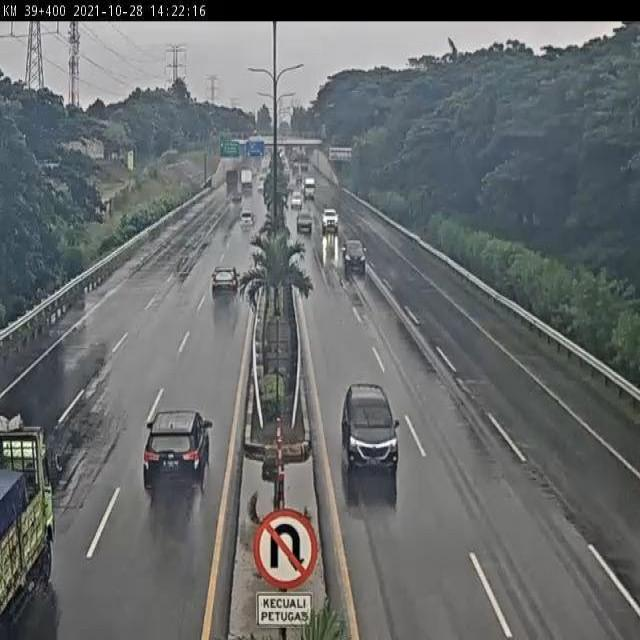car: (142, 409, 213, 492), (339, 384, 400, 473), (210, 262, 241, 298), (342, 238, 367, 270), (320, 205, 339, 231), (295, 209, 314, 235), (239, 209, 256, 232), (229, 188, 245, 208)
